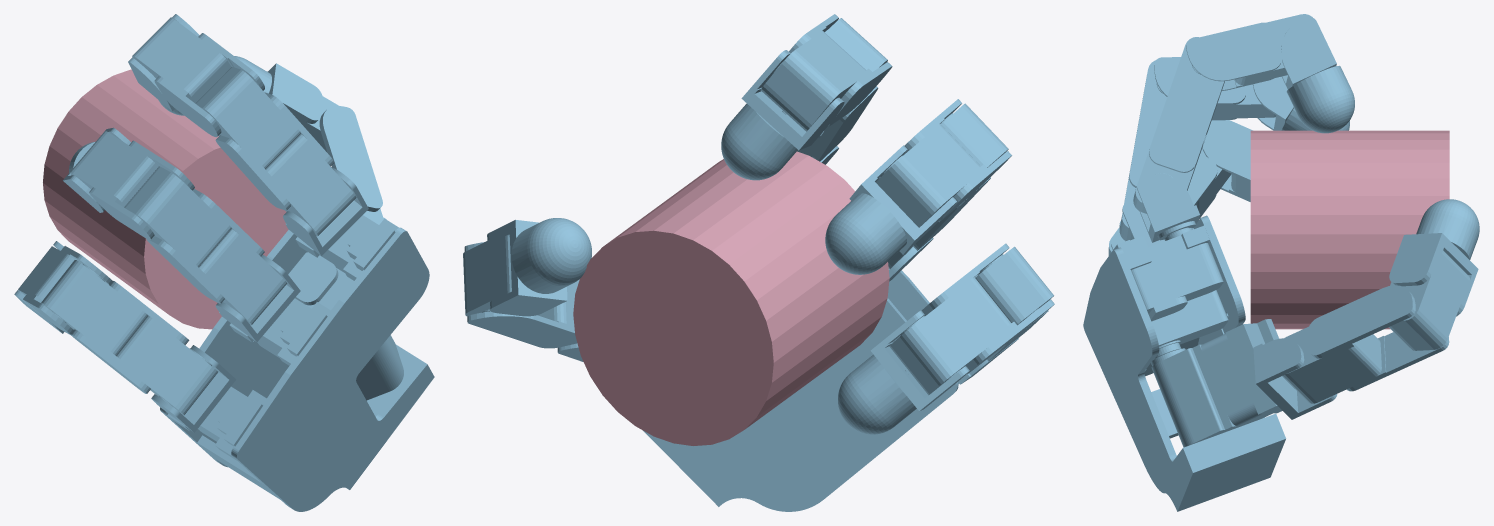
3 renders of one model, left to right at view 1: azimuth 30°, elevation 25°; view 2: azimuth 150°, elevation 25°; view 3: azimuth 270°, elevation 25°, orthographic. The views are drawn at different scales.
Visible parts, largest first — view 1: world; view 2: world; view 3: world.
Boxes of the visible parts, bbox=[...] form: world: bbox=[14, 14, 434, 511]; world: bbox=[463, 14, 1054, 511]; world: bbox=[1083, 14, 1479, 511].
Size of the model in its own units: 0.1893 by 0.1971 by 0.1594.
